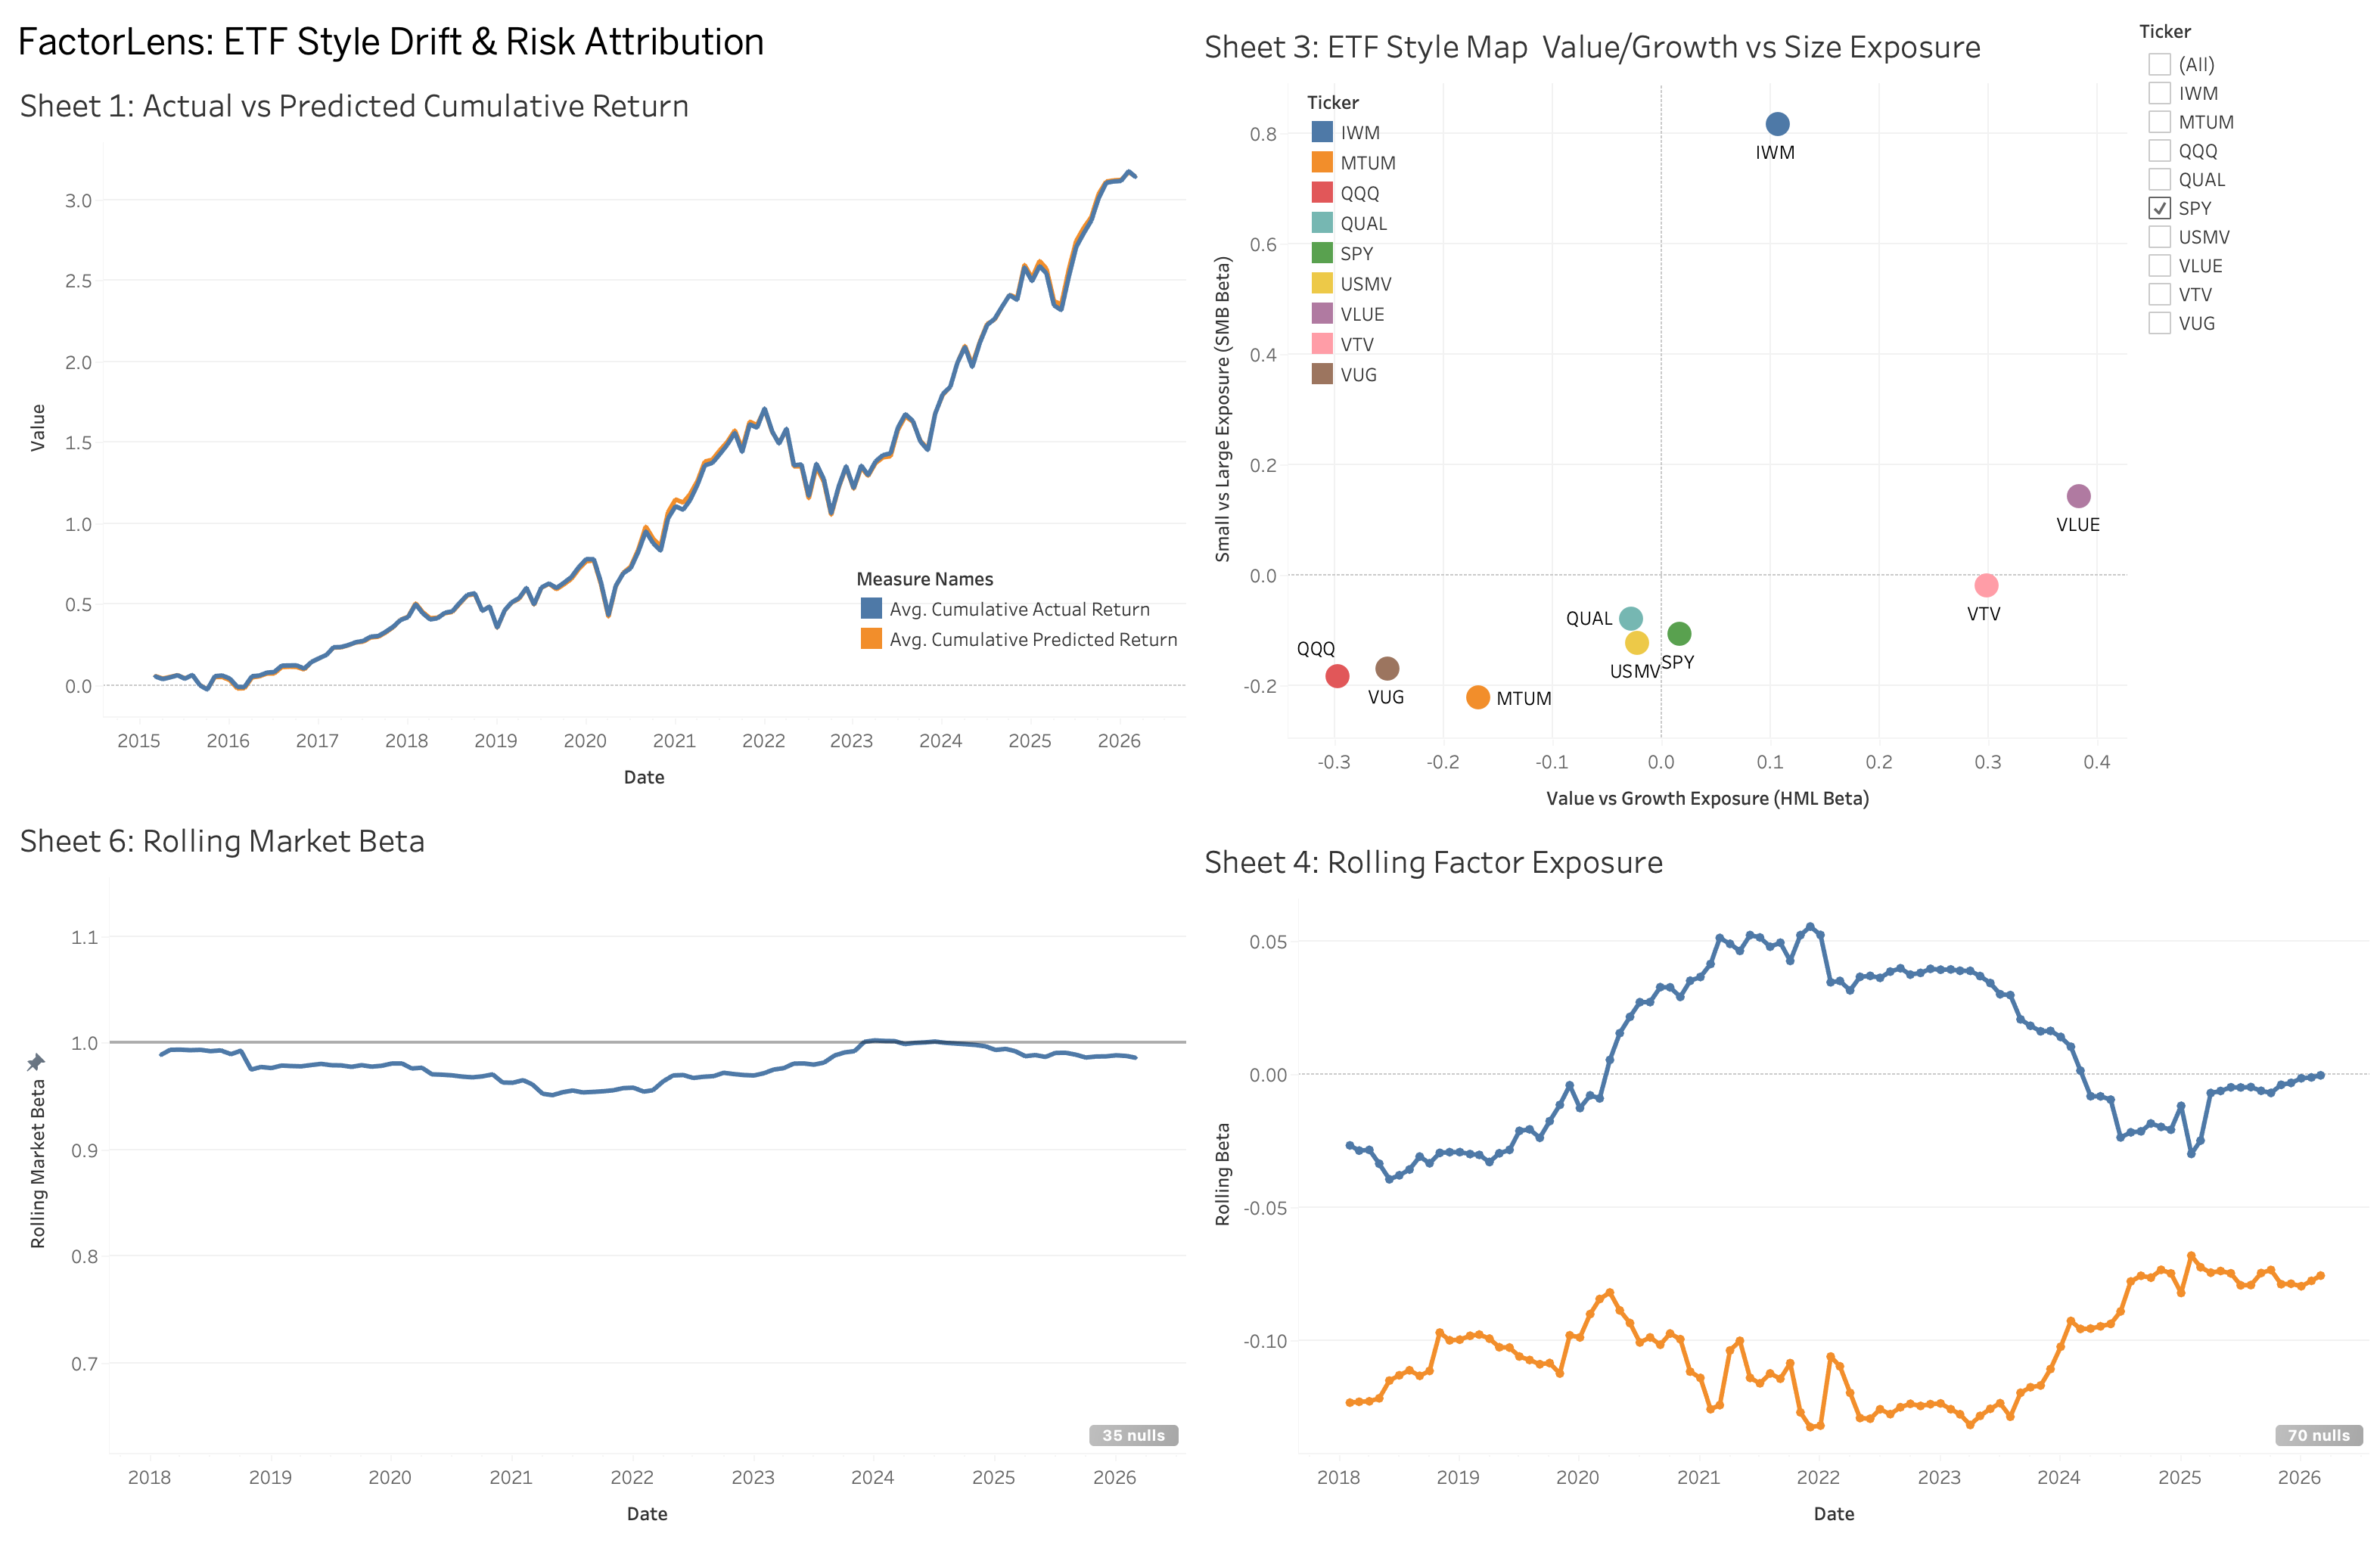

What the dashboard file says about the page in this screenshot:
{"tool":"tableau","page":{"name":"Dashboard 1","canvas":[1000,1000],"units":"permille","ordinal":0},"visuals":[{"type":"title","box":[5.1,7.8,494.9,37.9]},{"type":"worksheet","title":"Sheet 3: ETF Style Map  Value/Growth vs Size Exposure","mark":"Circle","rows":["beta_smb"],"cols":["beta_hml"],"box":[500,7.8,393.7,524.3]},{"type":"filter","title":"Sheet 1: Actual vs Predicted Cumulative Return","param":"[federated.0rub3aj17ogbnm19yr8u00o4omzu].[none:ticker:nk]","box":[893.7,7.8,101.2,524.3]},{"type":"worksheet","title":"Sheet 1: Actual vs Predicted Cumulative Return","mark":"Automatic","cols":["date"],"box":[5.1,45.7,494.9,473.2]},{"type":"legend","title":"Sheet 3: ETF Style Map  Value/Growth vs Size Exposure","param":"[federated.0rub3aj17ogbnm19yr8u00o4omzu].[none:ticker:nk]","box":[548.4,57.4,88.5,202.3]},{"type":"legend","title":"Sheet 1: Actual vs Predicted Cumulative Return","param":"[federated.0rub3aj17ogbnm19yr8u00o4omzu].[:Measure Names]","box":[359.9,363.8,137.2,56.4]},{"type":"worksheet","title":"Sheet 6: Rolling Market Beta","mark":"Line","rows":["rolling_beta_market"],"cols":["date"],"box":[5.1,518.9,494.9,473.3]},{"type":"worksheet","title":"Sheet 4: Rolling Factor Exposure ","mark":"Automatic","cols":["date"],"box":[500,532.1,494.9,460.1]}]}

Visuals, with their boxes on the dashboard's canvas, which has no fixed pixel size, in thousandths of its width and height (x1, y1, x2, y2). These are canvas units, not pixel positions in the 2380x1555 screenshot, which may show the page scaled, cropped or inside an application window:
title: (5, 8, 500, 46)
"Sheet 3: ETF Style Map  Value/Growth vs Size Exposure" worksheet (Circle marks): (500, 8, 894, 532)
"Sheet 1: Actual vs Predicted Cumulative Return" filter: (894, 8, 995, 532)
"Sheet 1: Actual vs Predicted Cumulative Return" worksheet: (5, 46, 500, 519)
"Sheet 3: ETF Style Map  Value/Growth vs Size Exposure" legend: (548, 57, 637, 260)
"Sheet 1: Actual vs Predicted Cumulative Return" legend: (360, 364, 497, 420)
"Sheet 6: Rolling Market Beta" worksheet (Line marks): (5, 519, 500, 992)
"Sheet 4: Rolling Factor Exposure " worksheet: (500, 532, 995, 992)
